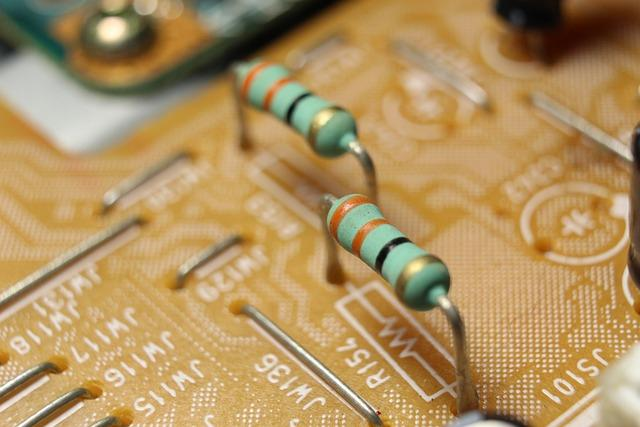resistor: (326, 190, 453, 314), (235, 55, 362, 162)
